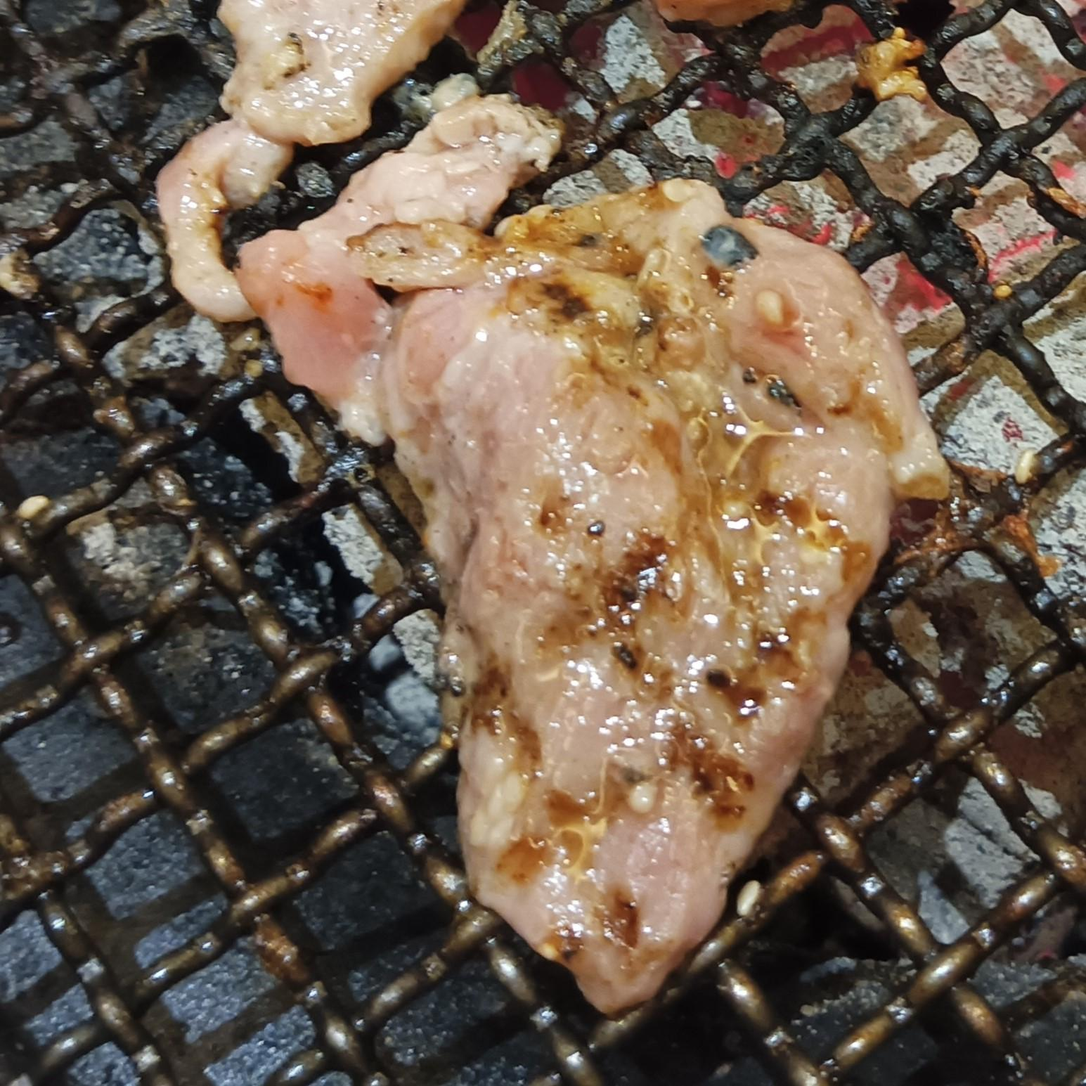Undercooked: (366, 182, 950, 1023)
